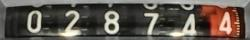digits: (59, 9, 82, 36), (104, 10, 119, 34), (181, 13, 197, 35), (218, 10, 232, 34), (143, 12, 158, 34), (27, 10, 42, 32)
